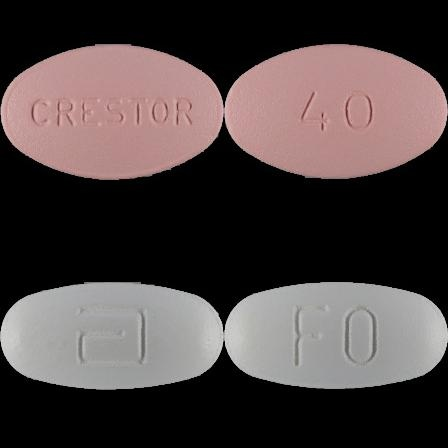43353-031: (0, 0, 224, 224)
